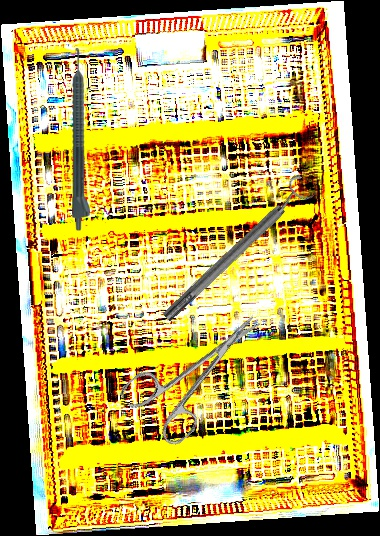Fixation Ring: (154, 171, 319, 329)
Handpiece: (72, 48, 92, 231)
Iris Scissors: (117, 291, 285, 453)
